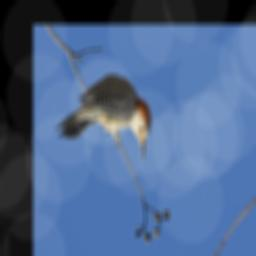Woodpecker: (51, 72, 159, 164)
